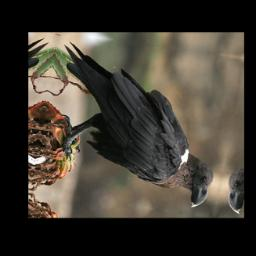Crow: (39, 41, 236, 208)
